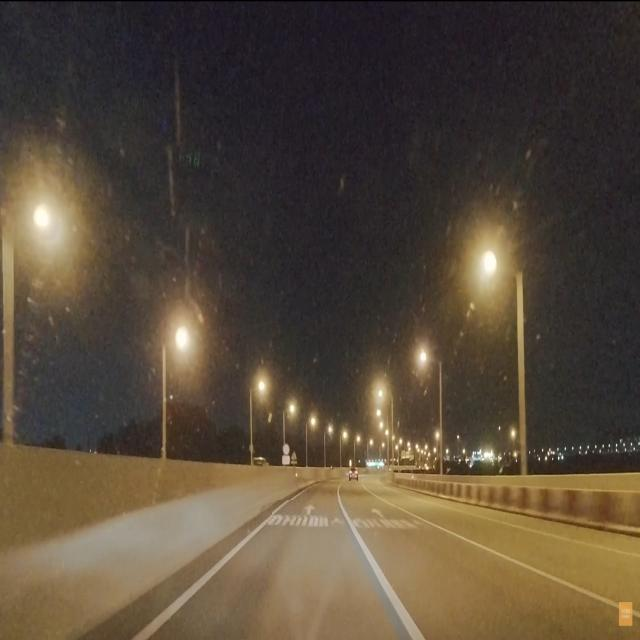forward: (272, 501, 350, 517)
